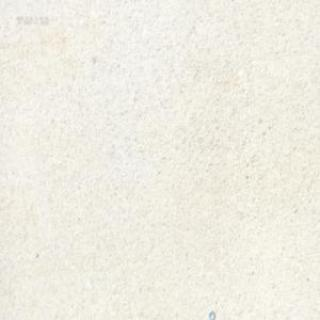Washertrack_idkeyframe: (208, 308, 215, 318)
